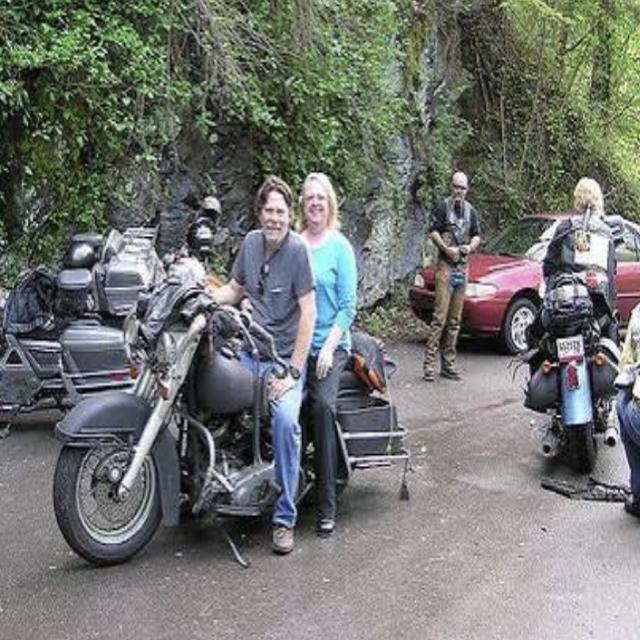WithoutHelmet: (204, 171, 321, 554), (299, 169, 361, 539), (542, 173, 627, 338)
